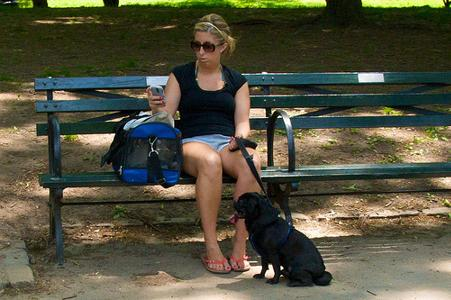person: (146, 13, 262, 274)
